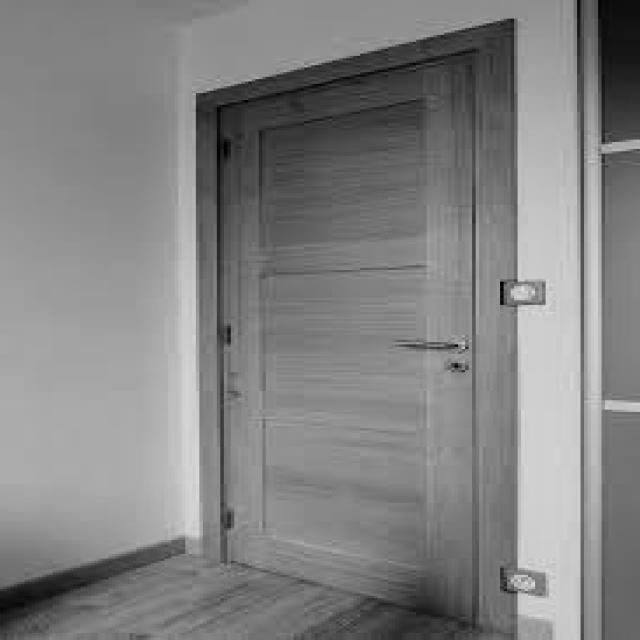Door: (201, 24, 509, 630)
